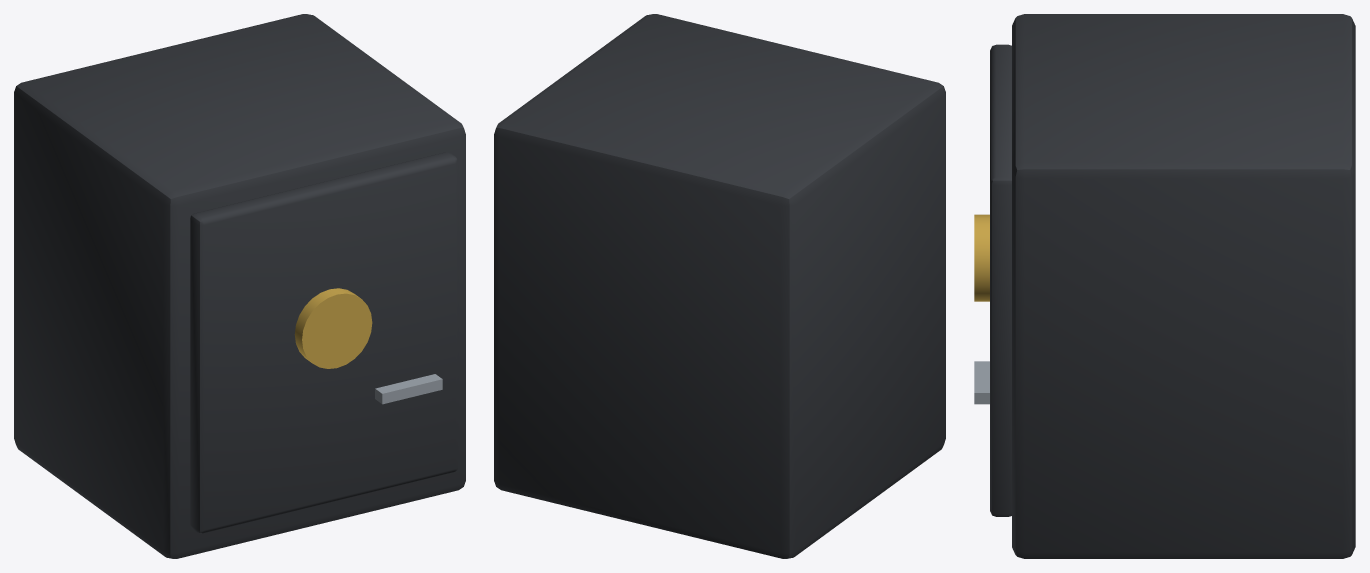
File: safe.glb
3 views of the same model, side by side, from view 1: azimuth 30°, elevation 25°; view 2: azimuth 150°, elevation 25°; view 3: azimuth 270°, elevation 25° (orthographic). The views are drawn at different scales.
Visible parts, largest first — view 1: safe, door; view 2: safe; view 3: safe, door.
Boxes of the visible parts, left/top/right/bottom form: safe: left=14, top=14, right=465, bottom=558; door: left=190, top=152, right=458, bottom=533; safe: left=494, top=14, right=945, bottom=558; safe: left=1012, top=14, right=1355, bottom=558; door: left=974, top=44, right=1011, bottom=516.
Size of the model in its own units: 0.6 by 0.7 by 0.61.
